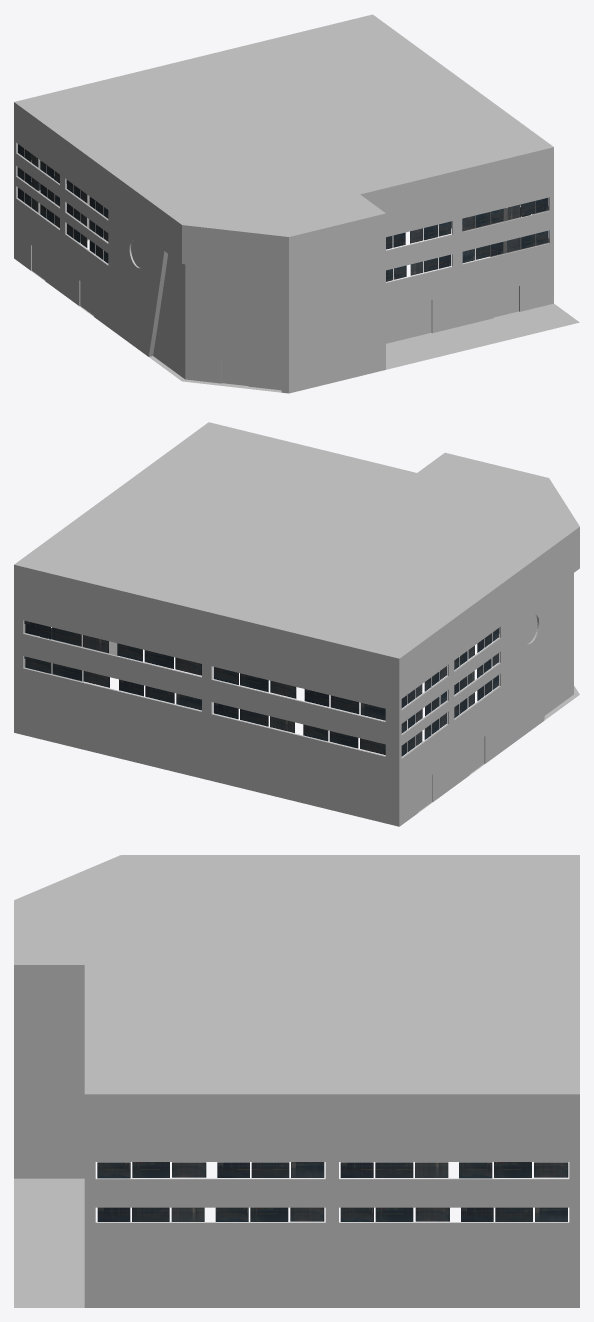
The picture shows the model from 3 angles, top to bottom: view 1: azimuth 30°, elevation 25°; view 2: azimuth 150°, elevation 25°; view 3: azimuth 270°, elevation 25°; orthographic projection. The views are drawn at different scales.
Parts seen in each view (by area): view 1: EB-010; view 2: EB-010; view 3: EB-010.
Part boxes in pixels (bbox=[...]): EB-010: bbox=[14, 14, 579, 393]; EB-010: bbox=[14, 422, 579, 826]; EB-010: bbox=[14, 855, 579, 1307].
Size of what is drawn, in the model's own units: 36 by 15 by 36.
